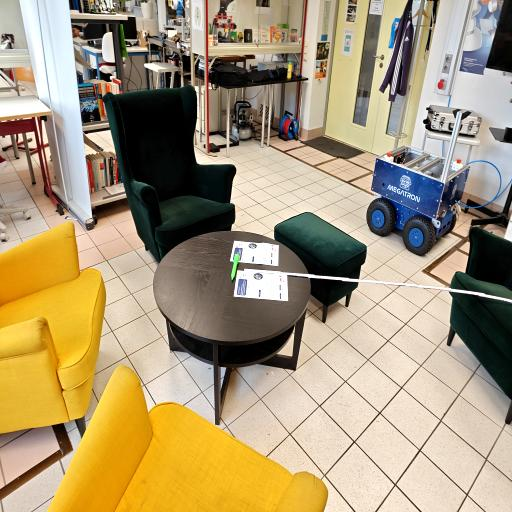Probe-Detection: (231, 253, 240, 281)
